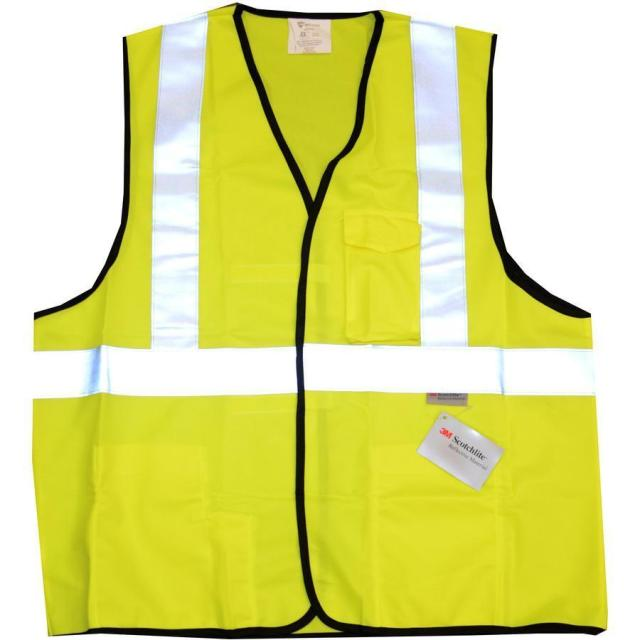Vest: (29, 3, 612, 638)
